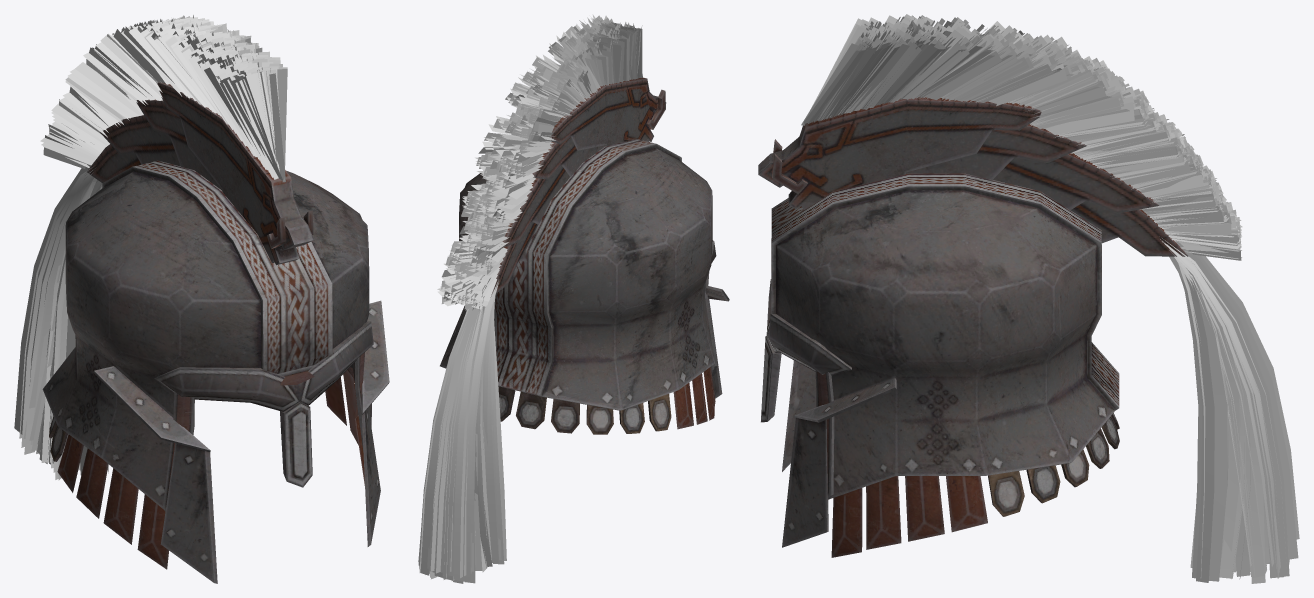
Rendered from sk_dwarf_iron_helmet_lord_d1.fbx.
The picture shows the model from 3 angles, left to right: view 1: azimuth 30°, elevation 25°; view 2: azimuth 150°, elevation 25°; view 3: azimuth 270°, elevation 25°; orthographic projection. The views are drawn at different scales.
Parts seen in each view (by area): view 1: sk_dwarf_iron_helmet_lord_d1.0, sk_dwarf_iron_helmet_lord_d1.1; view 2: sk_dwarf_iron_helmet_lord_d1.0, sk_dwarf_iron_helmet_lord_d1.1; view 3: sk_dwarf_iron_helmet_lord_d1.0, sk_dwarf_iron_helmet_lord_d1.1.
Part boxes in pixels (<box>): sk_dwarf_iron_helmet_lord_d1.0: <box>42,82,389,583</box>; sk_dwarf_iron_helmet_lord_d1.1: <box>14,15,287,480</box>; sk_dwarf_iron_helmet_lord_d1.0: <box>440,77,729,434</box>; sk_dwarf_iron_helmet_lord_d1.1: <box>418,14,642,583</box>; sk_dwarf_iron_helmet_lord_d1.0: <box>758,97,1188,557</box>; sk_dwarf_iron_helmet_lord_d1.1: <box>801,14,1299,583</box>.
Size of the model in its own units: 0.2896 by 0.4601 by 0.5107.
